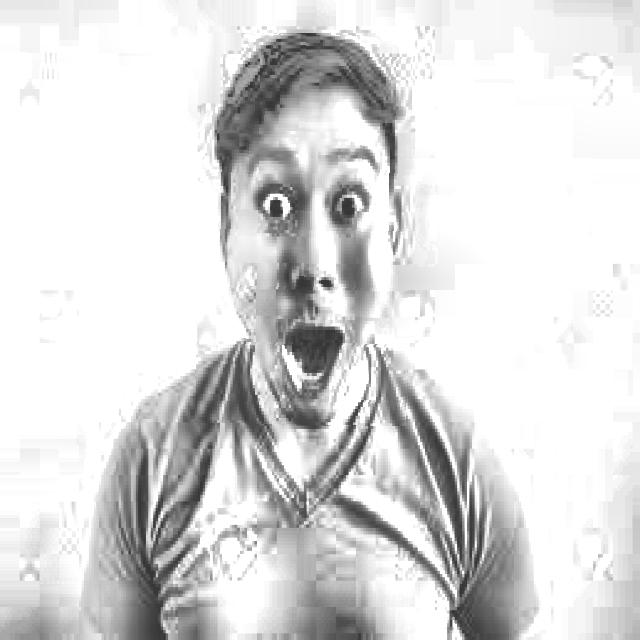surprise: (196, 34, 411, 426)
